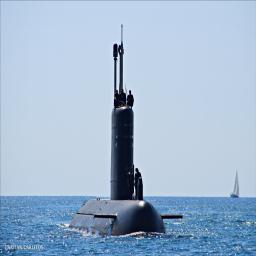submarine: (67, 17, 169, 237)
